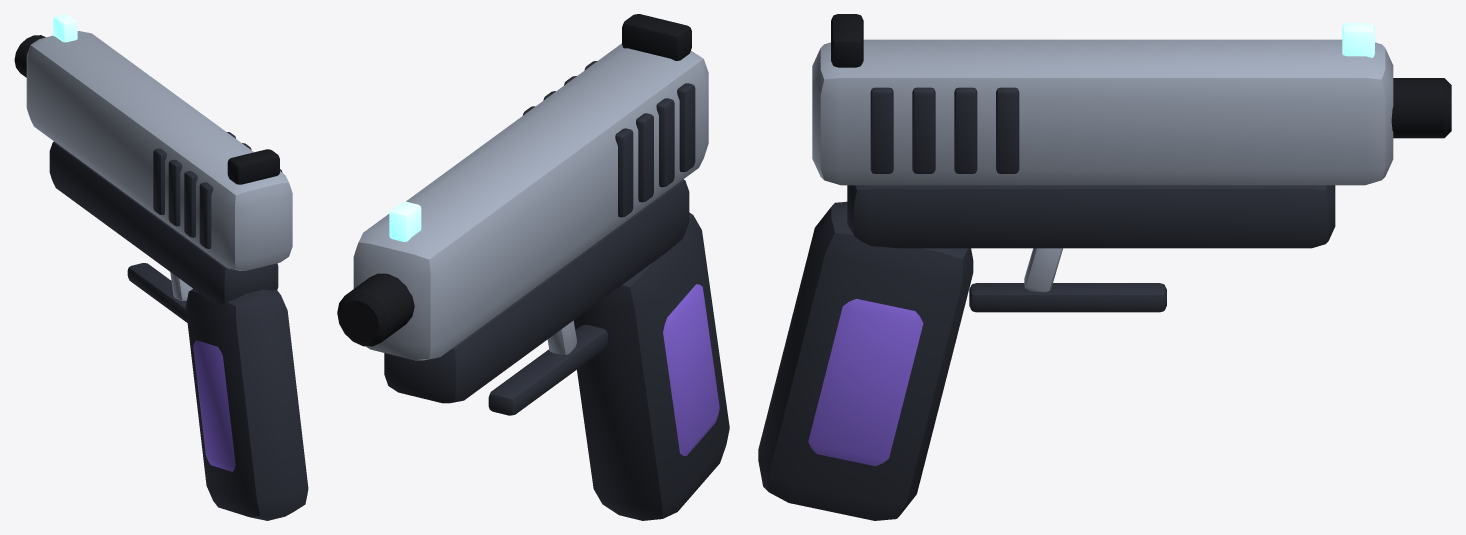
Rendered from sidearm.glb.
The picture shows the model from 3 angles, left to right: view 1: azimuth 30°, elevation 25°; view 2: azimuth 150°, elevation 25°; view 3: azimuth 270°, elevation 25°; orthographic projection. The views are drawn at different scales.
Parts seen in each view (by area): view 1: sidearm; view 2: sidearm; view 3: sidearm.
Boxes of the visible parts, x1,y1,x2,y2 form: sidearm: (14,14,308,520); sidearm: (337,14,729,520); sidearm: (758,14,1451,520).
Bounding box in the file's own units: 0.052 × 0.2315 × 0.2983.
